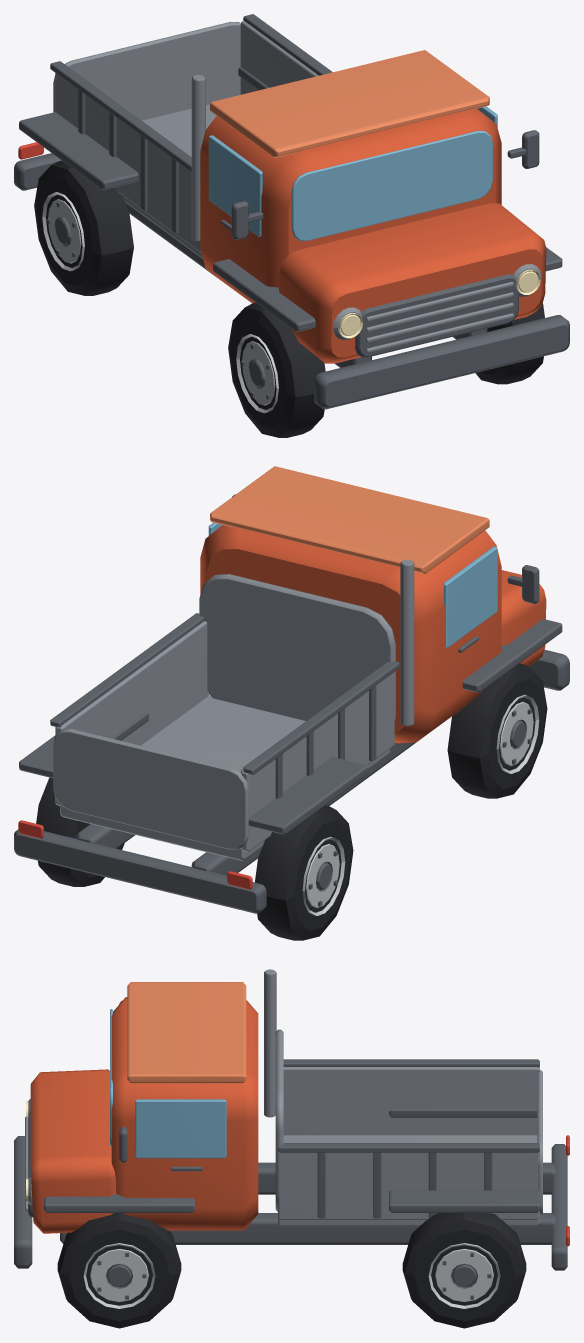
File: camionnette.glb
3 renders of one model, top to bottom at view 1: azimuth 30°, elevation 25°; view 2: azimuth 150°, elevation 25°; view 3: azimuth 270°, elevation 25°, orthographic. The views are drawn at different scales.
Parts seen in each view (by area): view 1: carrosserie_camion.002, carrosserie_benne_sombre.002, benne_benne.002, carrosserie_verre.002, carrosserie_camion_clair.002, roue_ard_pneu.002, roue_avd_pneu.002, carrosserie_benne.002, benne_benne_sombre.002, roue_ard_jante.002, roue_avd_jante.002, roue_avg_pneu.002 (+3 smaller); view 2: benne_benne.002, carrosserie_camion.002, carrosserie_benne_sombre.002, carrosserie_camion_clair.002, roue_avd_pneu.002, roue_ard_pneu.002, benne_benne_sombre.002, carrosserie_verre.002, carrosserie_benne.002, roue_arg_pneu.002, roue_avd_jante.002, roue_ard_jante.002 (+1 smaller); view 3: benne_benne.002, carrosserie_camion.002, carrosserie_benne_sombre.002, carrosserie_camion_clair.002, roue_arg_pneu.002, roue_avg_pneu.002, benne_benne_sombre.002, carrosserie_verre.002, roue_arg_jante.002, roue_avg_jante.002, carrosserie_benne.002, roue_avg_benne_sombre.002 (+1 smaller).
Boxes of the visible parts, x1=… form: carrosserie_camion.002: x1=200, y1=109, x2=546, y2=363; carrosserie_benne_sombre.002: x1=14, y1=67, x2=569, y2=409; benne_benne.002: x1=53, y1=20, x2=318, y2=258; carrosserie_verre.002: x1=208, y1=106, x2=497, y2=240; carrosserie_camion_clair.002: x1=210, y1=50, x2=489, y2=157; roue_ard_pneu.002: x1=34, y1=160, x2=133, y2=295; roue_avd_pneu.002: x1=228, y1=302, x2=325, y2=437; carrosserie_benne.002: x1=191, y1=75, x2=541, y2=352; benne_benne_sombre.002: x1=50, y1=14, x2=332, y2=233; roue_ard_jante.002: x1=42, y1=192, x2=84, y2=271; roue_avd_jante.002: x1=236, y1=334, x2=278, y2=413; roue_avg_pneu.002: x1=475, y1=303, x2=544, y2=384; benne_benne.002: x1=53, y1=574, x2=395, y2=860; carrosserie_camion.002: x1=200, y1=525, x2=546, y2=743; carrosserie_benne_sombre.002: x1=14, y1=494, x2=569, y2=913; carrosserie_camion_clair.002: x1=210, y1=466, x2=489, y2=573; roue_avd_pneu.002: x1=447, y1=663, x2=547, y2=798; roue_ard_pneu.002: x1=255, y1=805, x2=353, y2=940; benne_benne_sombre.002: x1=50, y1=613, x2=399, y2=798; carrosserie_verre.002: x1=208, y1=522, x2=497, y2=647; carrosserie_benne.002: x1=400, y1=559, x2=414, y2=726; roue_arg_pneu.002: x1=36, y1=777, x2=124, y2=886; roue_avd_jante.002: x1=496, y1=694, x2=539, y2=773; roue_ard_jante.002: x1=302, y1=836, x2=345, y2=915; benne_benne.002: x1=275, y1=1029, x2=542, y2=1226; carrosserie_camion.002: x1=30, y1=997, x2=258, y2=1233; carrosserie_benne_sombre.002: x1=14, y1=1001, x2=567, y2=1270; carrosserie_camion_clair.002: x1=127, y1=982, x2=246, y2=1083; roue_arg_pneu.002: x1=402, y1=1213, x2=526, y2=1328; roue_avg_pneu.002: x1=57, y1=1213, x2=181, y2=1328; benne_benne_sombre.002: x1=278, y1=1059, x2=539, y2=1218; carrosserie_verre.002: x1=110, y1=1009, x2=226, y2=1158; roue_arg_jante.002: x1=428, y1=1243, x2=500, y2=1308; roue_avg_jante.002: x1=83, y1=1243, x2=155, y2=1308; carrosserie_benne.002: x1=25, y1=969, x2=276, y2=1210; roue_avg_benne_sombre.002: x1=97, y1=1252, x2=146, y2=1299.
Size of the model in its own units: 1.98 by 1.8 by 3.5.
